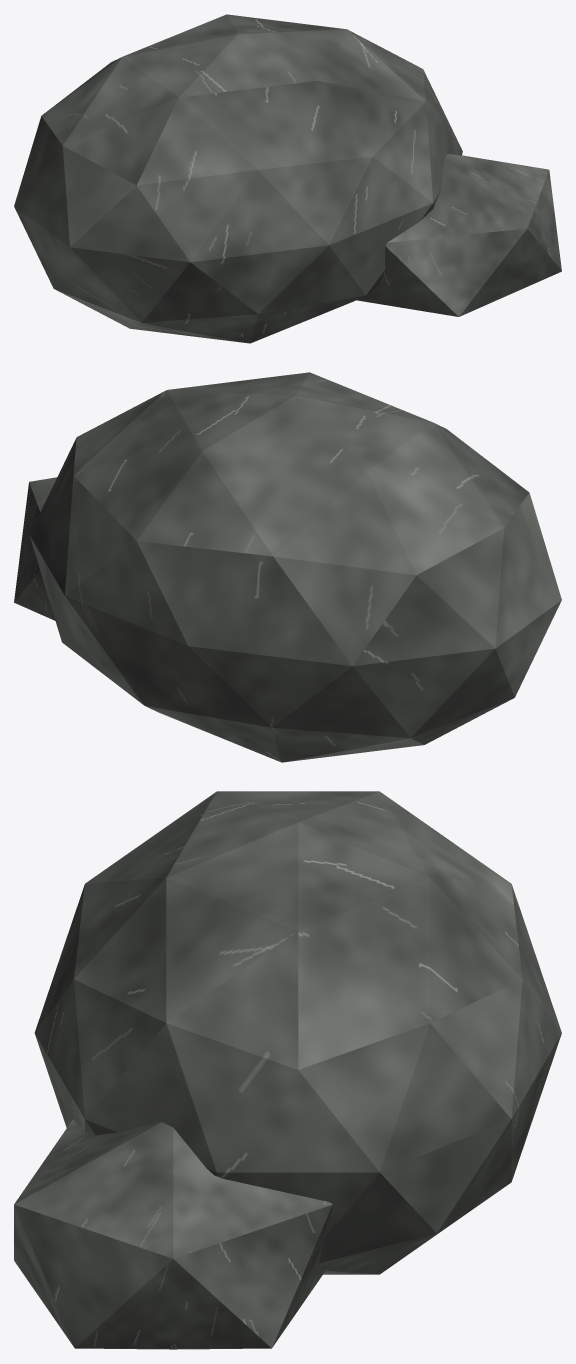
The model's file is rock.glb.
3 views of the same model, one above another, from view 1: azimuth 30°, elevation 25°; view 2: azimuth 150°, elevation 25°; view 3: azimuth 270°, elevation 25° (orthographic). The views are drawn at different scales.
Visible parts, largest first — view 1: rock_rock_gray; view 2: rock_rock_gray; view 3: rock_rock_gray.
Part boxes in pixels (left/top/right/bottom): rock_rock_gray: left=14, top=14, right=561, bottom=343; rock_rock_gray: left=14, top=372, right=561, bottom=762; rock_rock_gray: left=14, top=791, right=561, bottom=1349.
Bounding box in the file's own units: 1.12 × 0.67 × 0.7897.
1 material, 1 textured.
